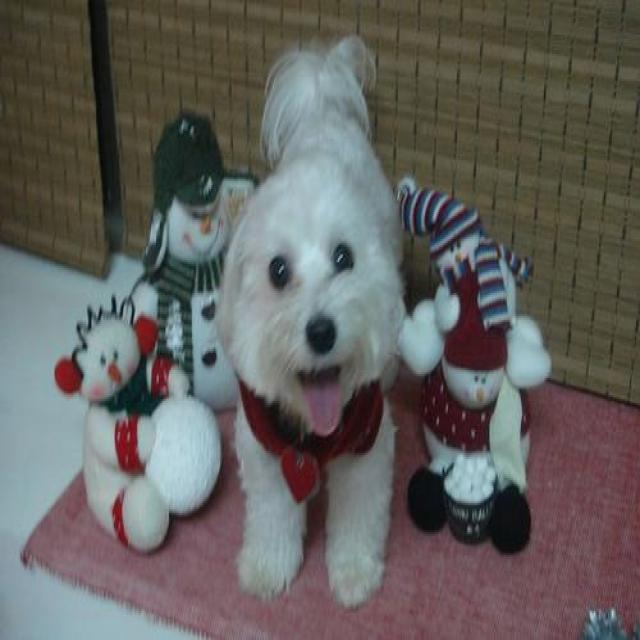maltese_dog: (214, 35, 408, 607)
